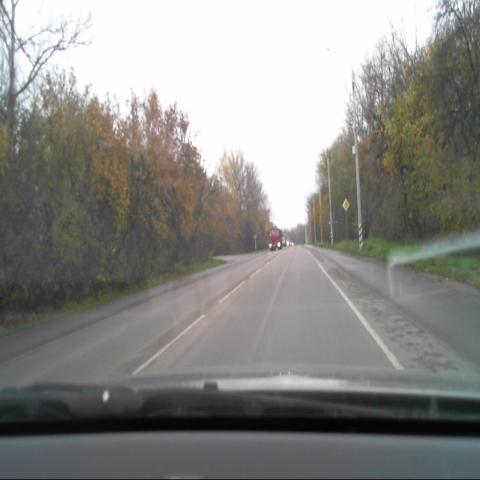2_1: (341, 199, 350, 212)
